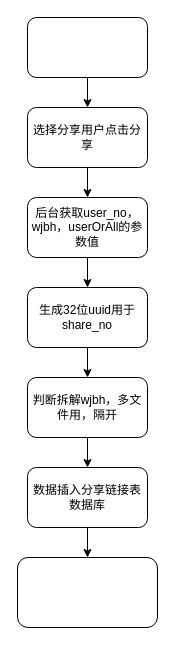
Image size: 175x645. Some labels were removed from this diagram. The centre of each missing label's shape, as x and y in pixels:
"判断拆解user_no,多用户的情况下循环并用上面得到的share_no插入到 被分享用户表" belongs at point (87, 592).
"选中文件点分享（控制下多选不要超过10个）" belongs at point (87, 47).
